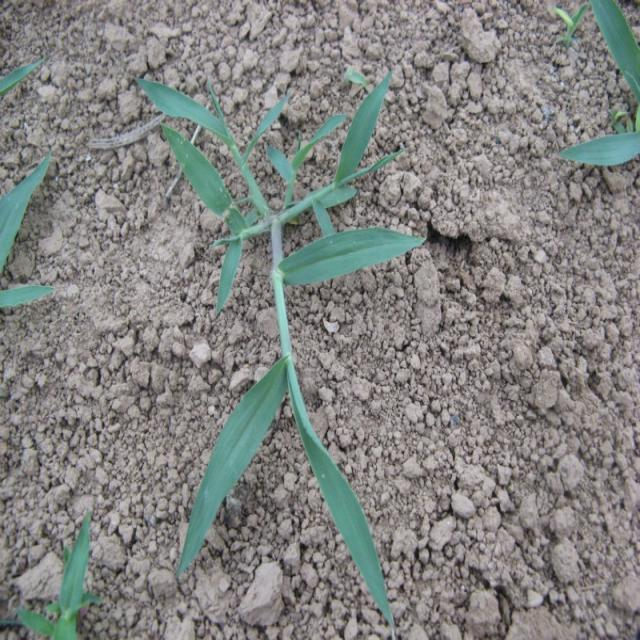bg: (138, 68, 430, 620)
